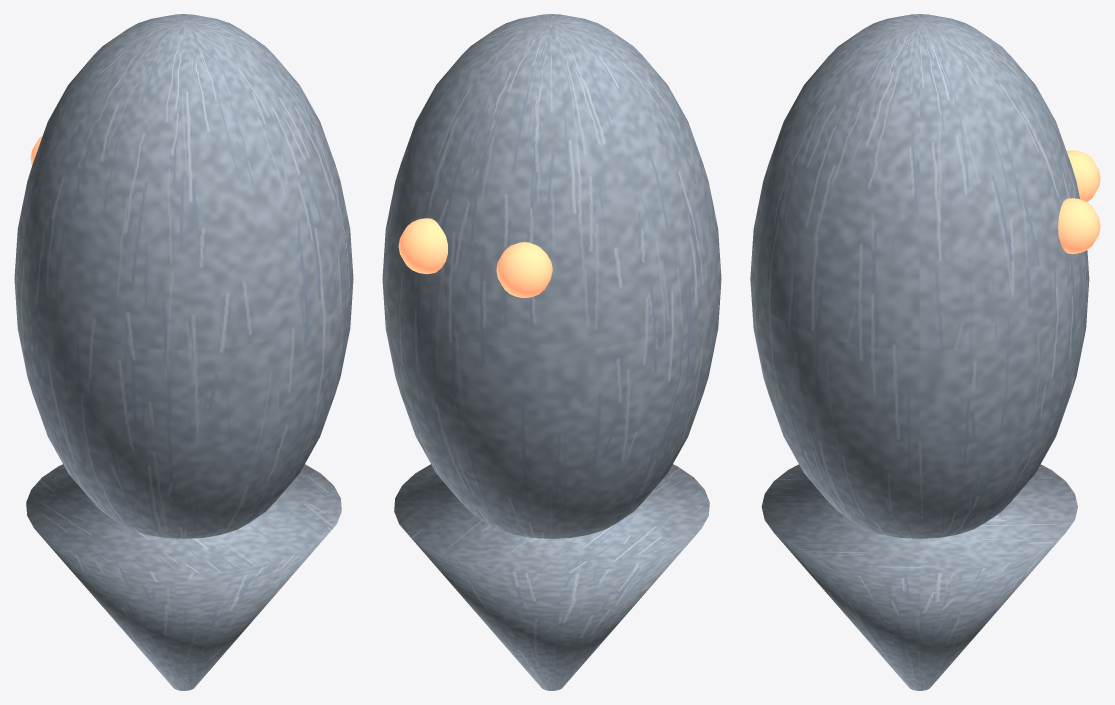
The model's file is adze.glb.
3 views of the same model, side by side, from view 1: azimuth 30°, elevation 25°; view 2: azimuth 150°, elevation 25°; view 3: azimuth 270°, elevation 25° (orthographic).
Visible parts, largest first — view 1: Body, Tail; view 2: Body, Tail, Eye, Eye.001; view 3: Body, Tail, Eye.001, Eye.
Part boxes in pixels (bbox=[...]): Body: bbox=[14, 14, 353, 538]; Tail: bbox=[26, 464, 341, 690]; Body: bbox=[382, 14, 721, 538]; Tail: bbox=[394, 464, 709, 690]; Eye: bbox=[496, 242, 552, 297]; Eye.001: bbox=[398, 218, 447, 274]; Body: bbox=[750, 14, 1089, 538]; Tail: bbox=[761, 464, 1077, 690]; Eye.001: bbox=[1058, 198, 1100, 254]; Eye: bbox=[1066, 150, 1100, 201].
Size of the model in its own units: 0.4633 by 1 by 0.4788.
Materials: 2 (1 with a texture image).
